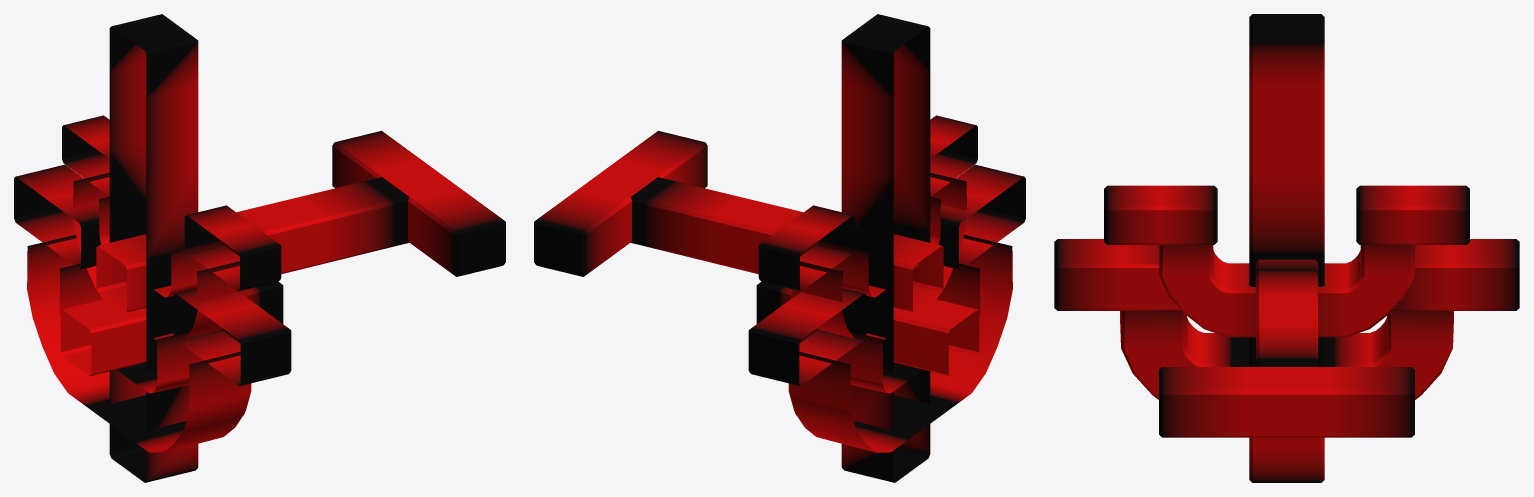
Rendered from SM_Roof_Support.FBX.
The picture shows the model from 3 angles, left to right: view 1: azimuth 30°, elevation 25°; view 2: azimuth 150°, elevation 25°; view 3: azimuth 270°, elevation 25°; orthographic projection. The views are drawn at different scales.
Visible parts, largest first — view 1: SM_Roof_Support_LOD0; view 2: SM_Roof_Support_LOD0; view 3: SM_Roof_Support_LOD0.
Part boxes in pixels (box(x1,y1,x2,y2)): SM_Roof_Support_LOD0: box(14, 14, 505, 482); SM_Roof_Support_LOD0: box(534, 14, 1025, 482); SM_Roof_Support_LOD0: box(1054, 14, 1519, 482).
Size of what is drawn, in the model's own units: 110 by 117 by 123.
